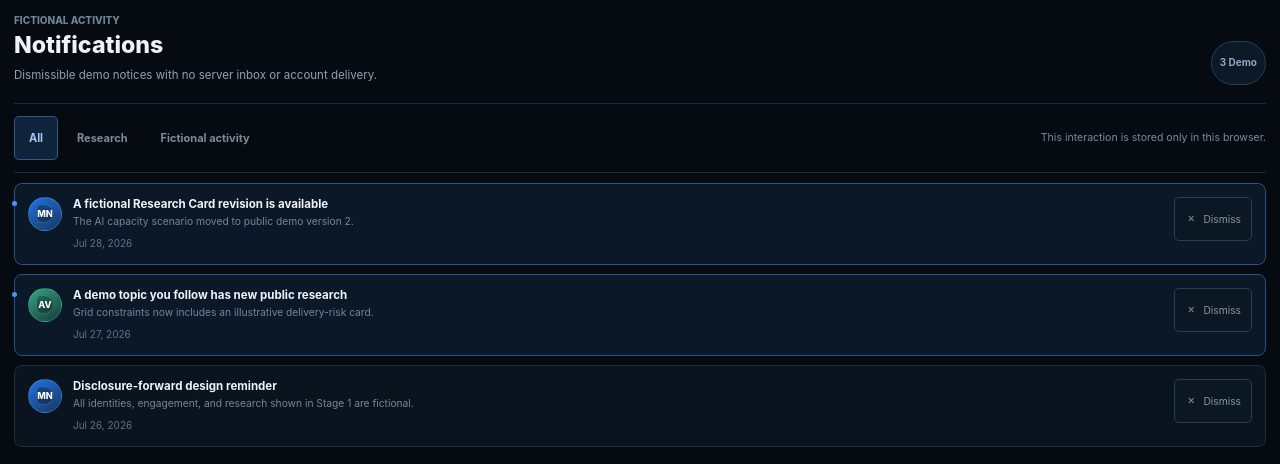
NotificationsView › announces a dismissed notification without translating authored content
Check: the element "A fictional Research Card revision is available" is shown, box left=14, top=183, right=1266, bottom=265
What coordinates should you click on to do the following:
click the button with aria-label "Dismiss: A fictional Research Card revision is available"
I would click on:
 (1213, 219)
Its box is left=1174, top=197, right=1252, bottom=241.
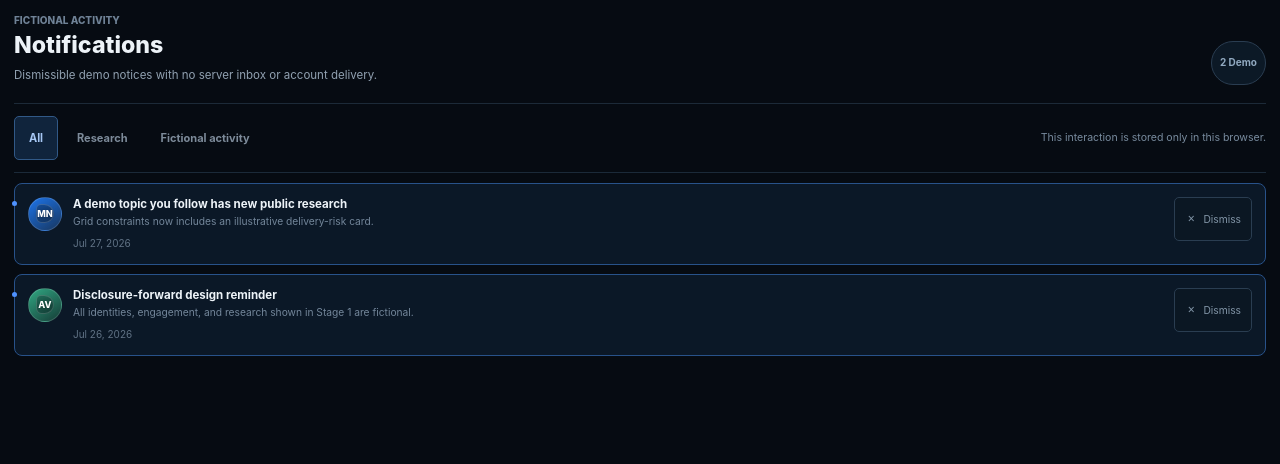
Check: the heading "A fictional Research Card revision is available" is gone
